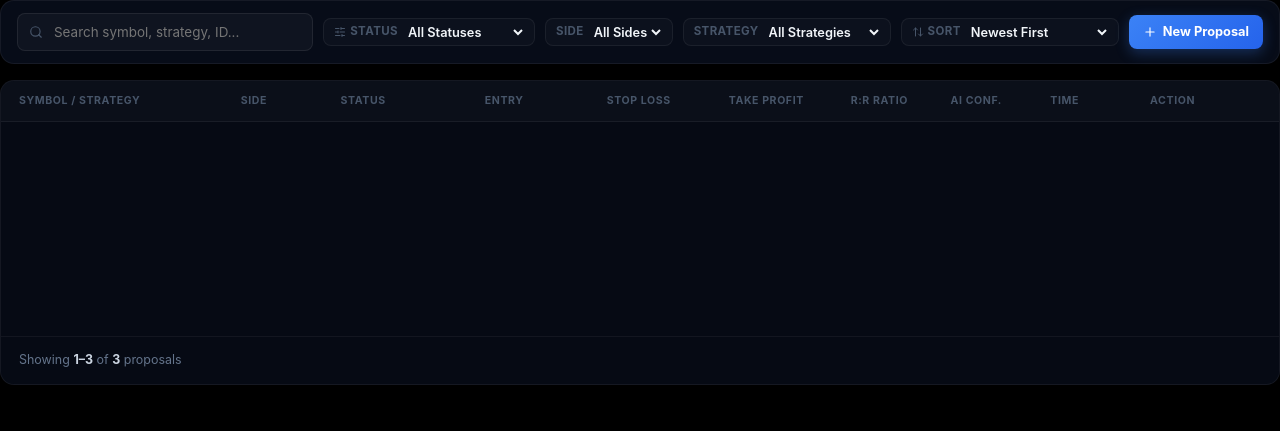
TradeProposalsPage & TradeProposalsList › displays empty state when filtered result set is empty
The width and height of the screenshot is (1280, 431).
Type "NONEXISTENT" into the field with test id "proposals-search-input". click: [165, 32]
box: [17,13,313,51]
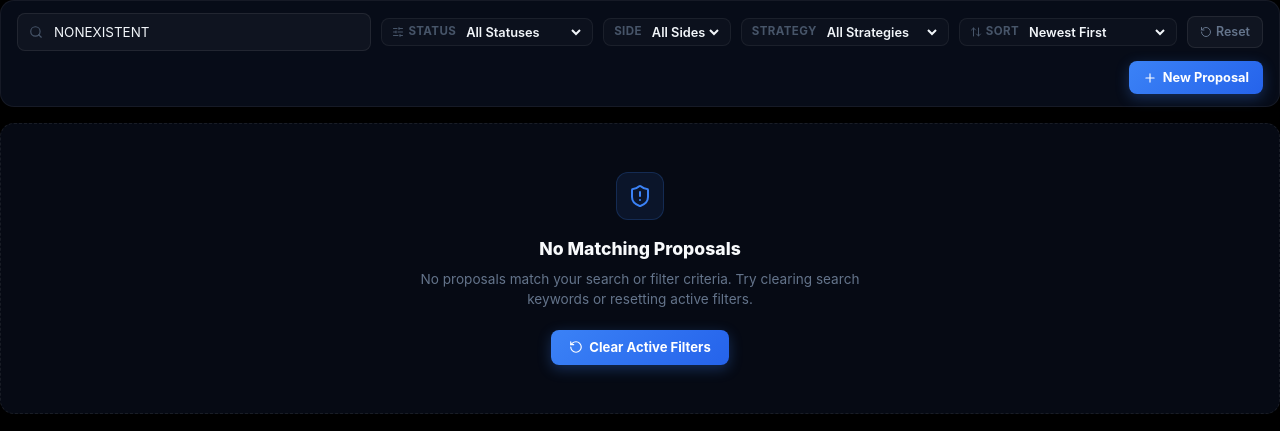
Expected: the element with test id "proposals-empty-state" is shown
Expected: the heading "No Matching Proposals" is shown, [539,238,741,259]
